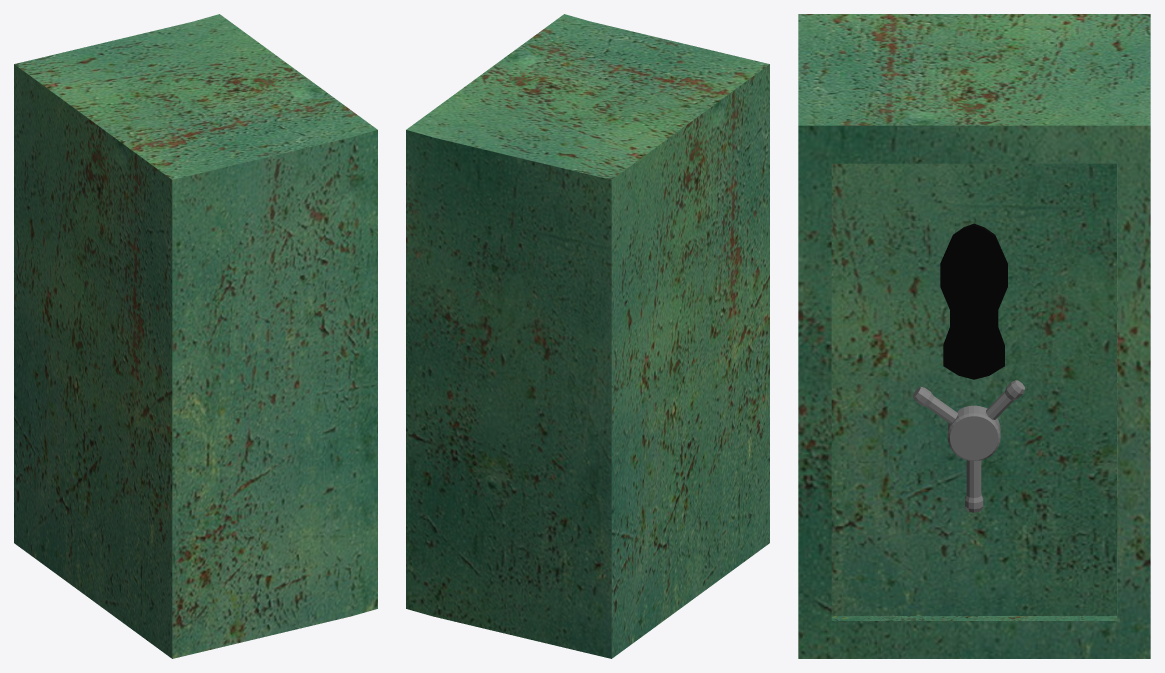
File: safe.fbx
3 renders of one model, left to right at view 1: azimuth 30°, elevation 25°; view 2: azimuth 150°, elevation 25°; view 3: azimuth 270°, elevation 25°, orthographic. The views are drawn at different scales.
Parts seen in each view (by area): view 1: Cube; view 2: Cube; view 3: Cube.001, Cube, Cube.002, Cylinder.
Boxes of the visible parts, x1,y1,x2,y2 form: Cube: (14,14,377,658); Cube: (406,14,769,658); Cube.001: (831,163,1116,615); Cube: (798,14,1150,658); Cube.002: (940,223,1007,379); Cylinder: (913,380,1024,512).
Bounding box in the file's own units: 276 × 596 × 356.
4 materials, 4 textured.
